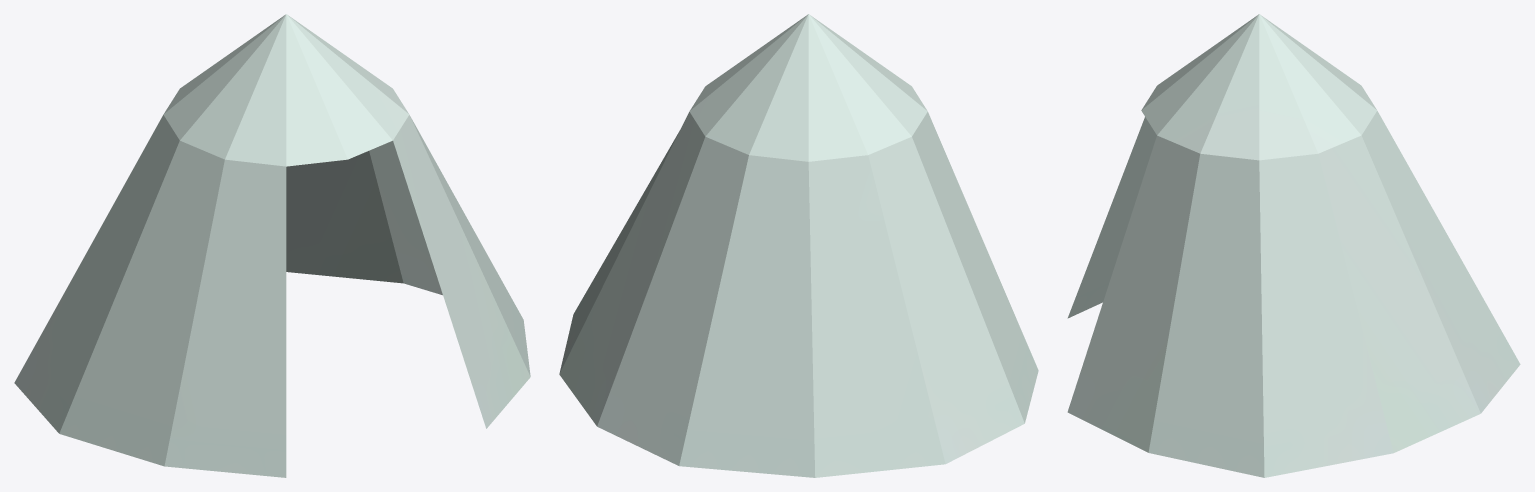
The model's file is cadır2.fbx.
3 renders of one model, left to right at view 1: azimuth 30°, elevation 25°; view 2: azimuth 150°, elevation 25°; view 3: azimuth 270°, elevation 25°, orthographic. The views are drawn at different scales.
Parts seen in each view (by area): view 1: Cylinder; view 2: Cylinder; view 3: Cylinder.
Part boxes in pixels (bbox=[...]): Cylinder: bbox=[14, 14, 530, 477]; Cylinder: bbox=[559, 14, 1038, 477]; Cylinder: bbox=[1067, 14, 1520, 477].
Size of the model in its own units: 366 by 276 by 322.
